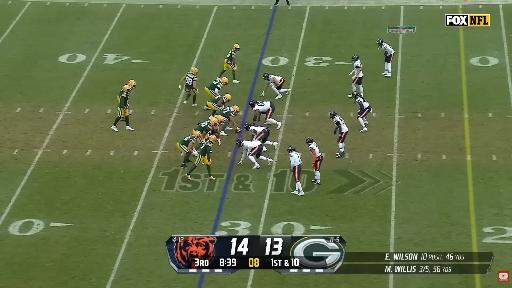Helmet: (244, 122, 252, 131), (216, 115, 225, 123), (128, 80, 136, 88), (377, 38, 384, 47), (236, 139, 243, 147), (352, 92, 360, 99), (193, 131, 201, 138), (249, 100, 256, 108), (210, 118, 218, 125), (221, 77, 228, 85), (209, 135, 217, 142), (233, 43, 240, 51), (224, 94, 231, 101), (330, 111, 337, 118), (123, 85, 131, 91), (306, 138, 314, 144), (352, 55, 359, 61), (191, 68, 198, 74), (233, 106, 239, 113), (288, 146, 295, 152), (263, 73, 269, 80)
Jersey: (333, 115, 348, 133), (198, 140, 213, 158), (355, 97, 369, 112), (216, 107, 235, 118), (196, 119, 212, 132), (185, 72, 197, 89), (206, 79, 223, 91), (118, 90, 130, 107), (253, 101, 271, 112), (289, 152, 301, 168), (353, 59, 363, 77), (309, 142, 321, 157), (380, 43, 394, 55), (179, 136, 195, 146), (249, 126, 268, 134), (242, 141, 261, 149), (268, 75, 283, 83), (226, 50, 236, 61), (118, 90, 130, 99), (209, 96, 223, 103)
Player: (186, 136, 217, 179), (236, 139, 273, 169), (111, 85, 133, 131), (250, 100, 281, 129), (177, 131, 201, 168), (244, 123, 278, 148), (330, 111, 348, 157), (288, 146, 304, 195), (306, 138, 323, 184), (219, 44, 239, 83), (261, 73, 291, 99), (352, 92, 371, 132), (216, 106, 241, 135), (179, 68, 198, 106), (377, 39, 394, 77), (195, 118, 217, 143), (206, 94, 231, 116), (350, 55, 363, 94), (205, 78, 228, 98), (128, 80, 136, 89)
